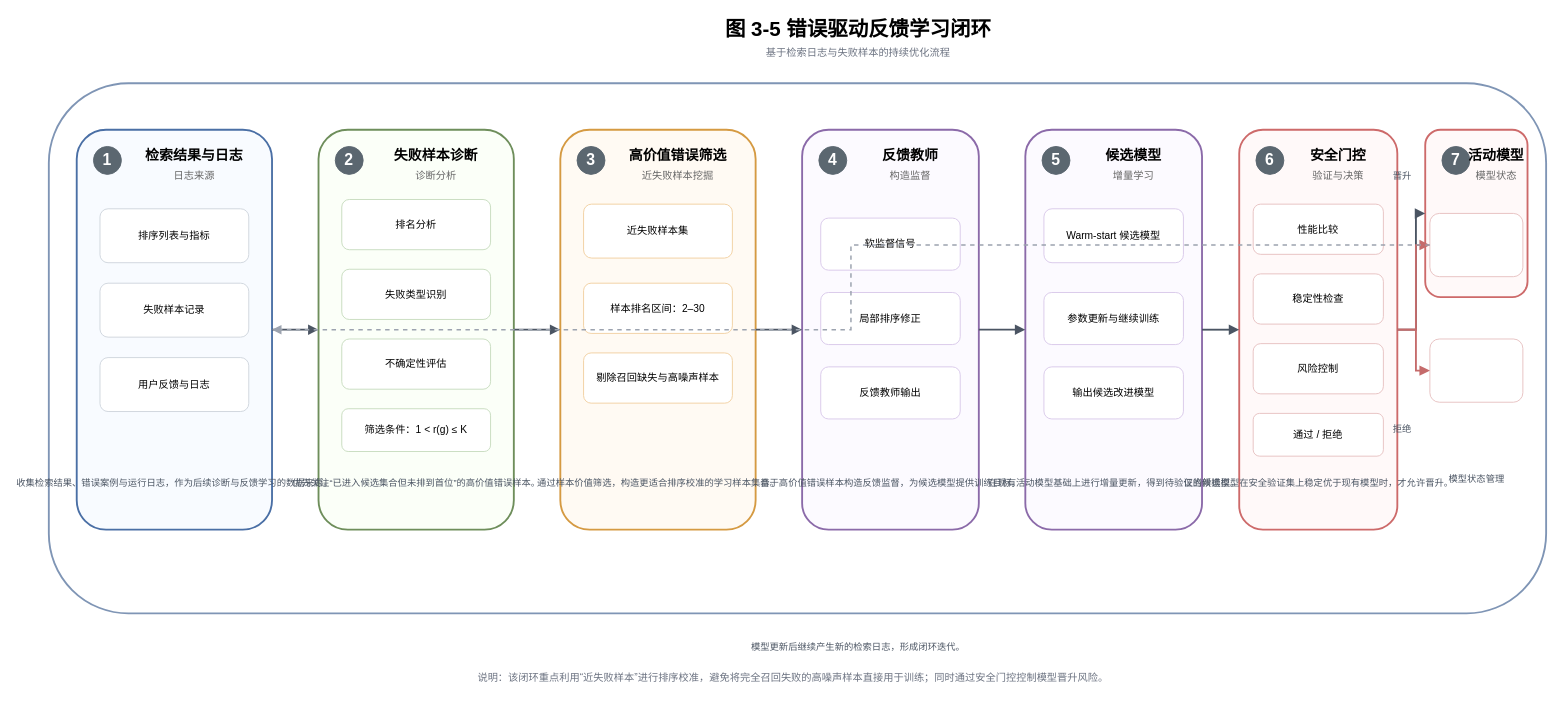
This 1562x701 diagram has some shape labels left out. Each missing label, with the centre of its shape:
"保留原活动模型" goes at point 1476,370.
"晋升为活动模型" goes at point 1476,245.
